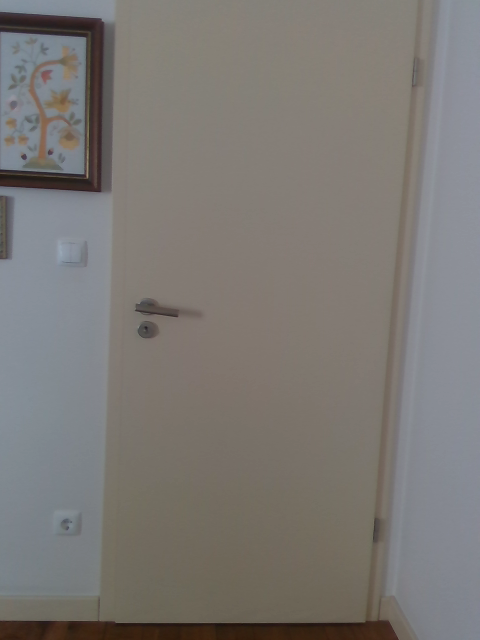closed: (95, 8, 428, 627)
